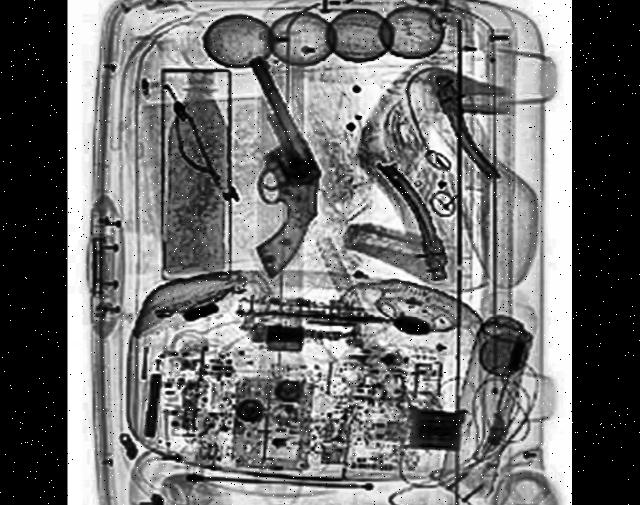Gun: (248, 56, 320, 280)
